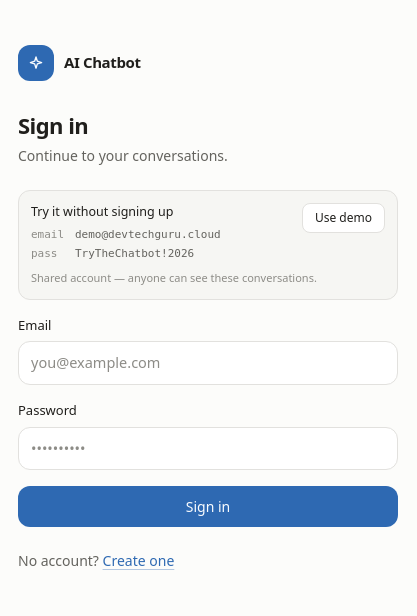
login › shows the server message on bad credentials and stays put
Type "a@b.c" into the field labelled "Email".
click(208, 363); type("a@b.c")  # box left=18, top=341, right=398, bottom=385
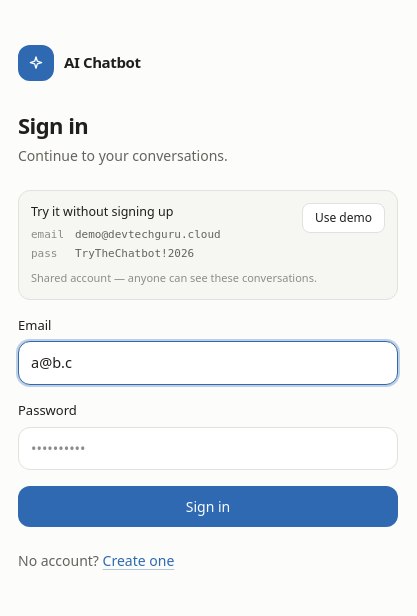
Type "wrong-password" into the password field labelled "Password".
click(208, 448); type("wrong-password")  # box left=18, top=427, right=398, bottom=470
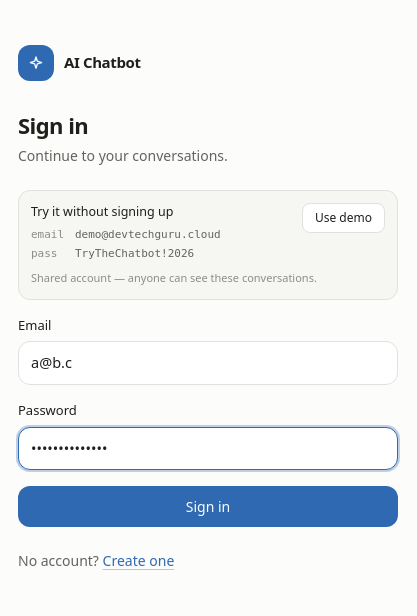
Click the button "Sign in".
click(208, 507)  # box left=18, top=486, right=398, bottom=527
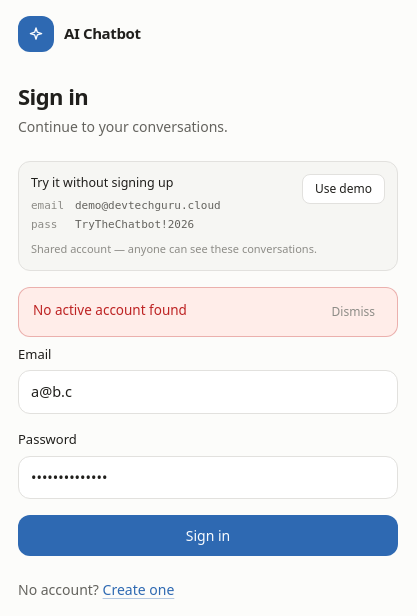
expect the message shows "No active account found": met, box left=33, top=301, right=187, bottom=319
